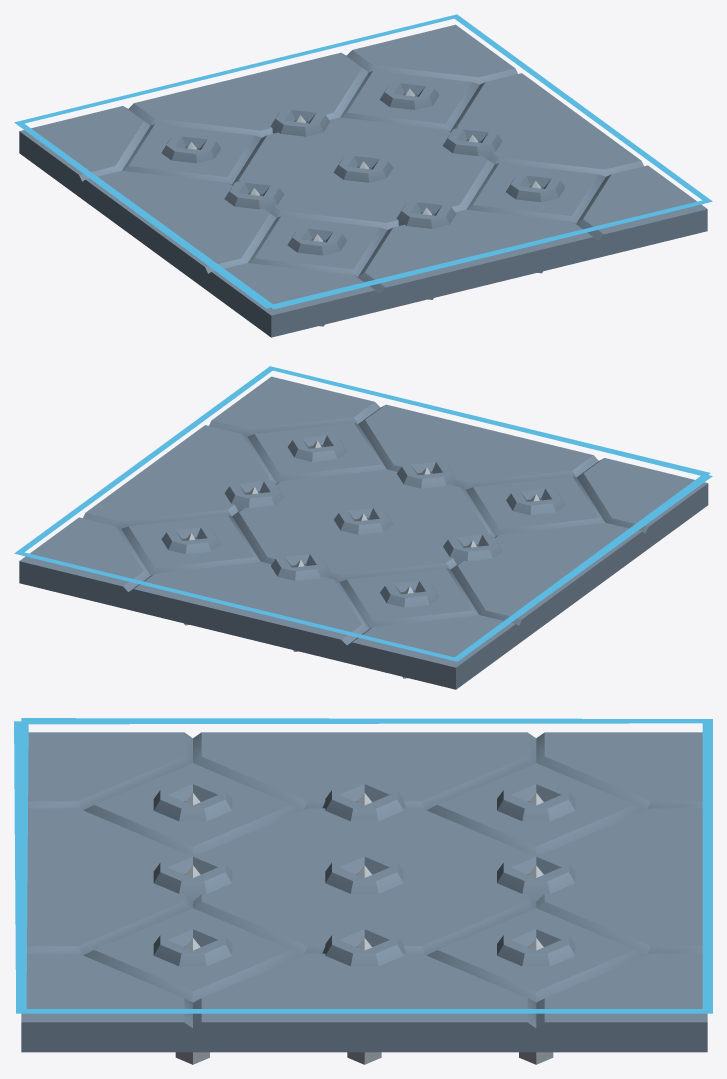
The model's file is trap.fbx.
3 views of the same model, one above another, from view 1: azimuth 30°, elevation 25°; view 2: azimuth 150°, elevation 25°; view 3: azimuth 270°, elevation 25° (orthographic). The views are drawn at different scales.
Parts seen in each view (by area): view 1: trap; view 2: trap; view 3: trap, Spikes.
Part boxes in pixels (x1,y1,x2,y2): trap: [14, 14, 712, 337]; trap: [14, 366, 712, 689]; trap: [14, 718, 712, 1052]; Spikes: [175, 793, 553, 1064].
Bounding box in the file's own units: 2.85 × 0.54 × 2.85.
